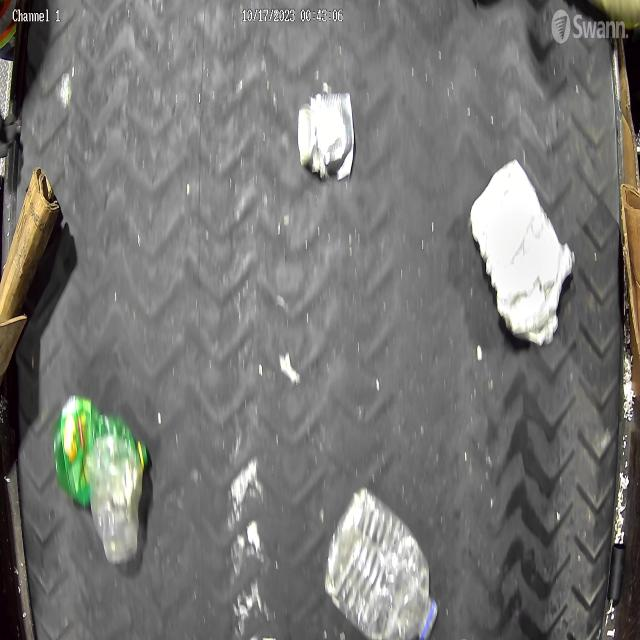can: (298, 92, 354, 182)
plastic_bottle: (323, 486, 438, 640)
